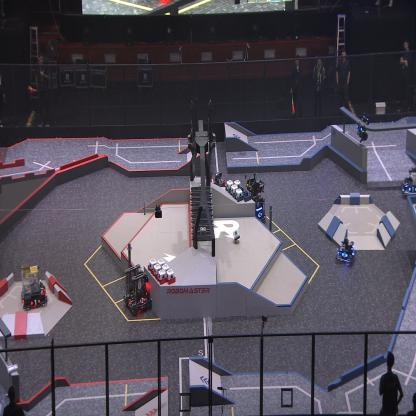car: (124, 260, 153, 316), (20, 263, 49, 313), (245, 172, 266, 225), (209, 171, 229, 201), (336, 238, 356, 266), (401, 166, 416, 201)
